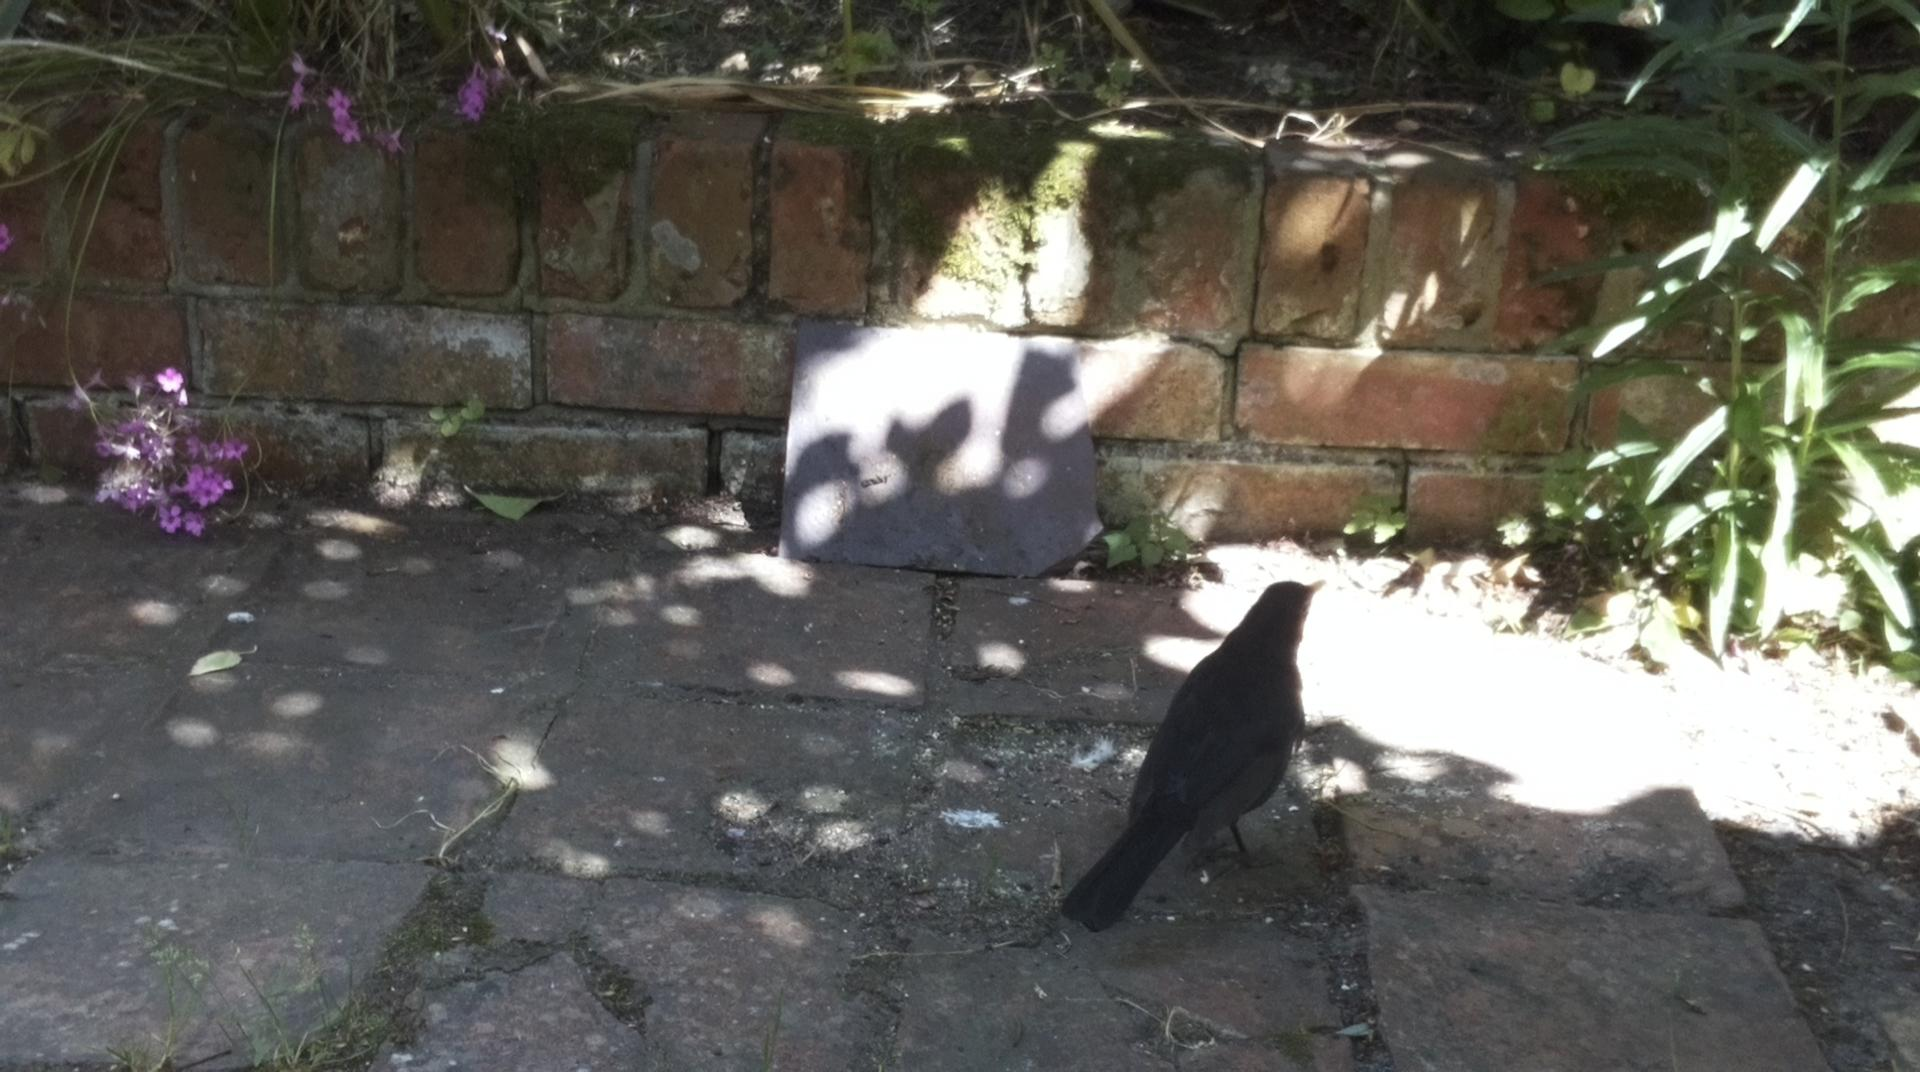blackbird: (1058, 576, 1329, 931)
